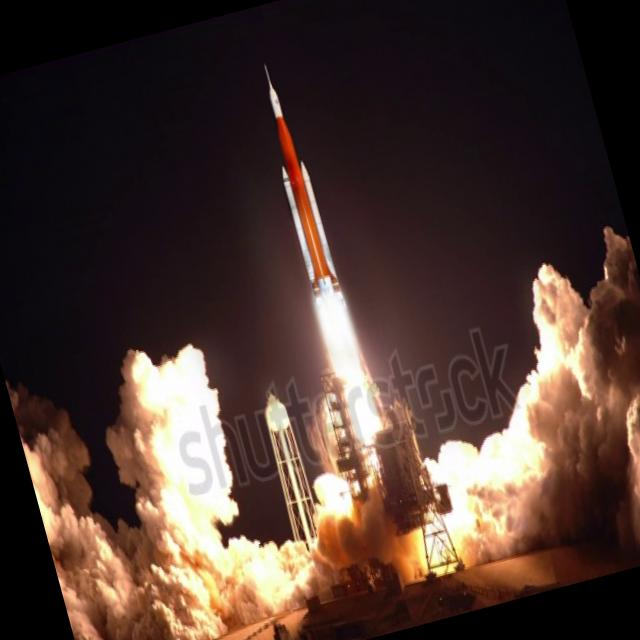rocket: (251, 55, 378, 407)
